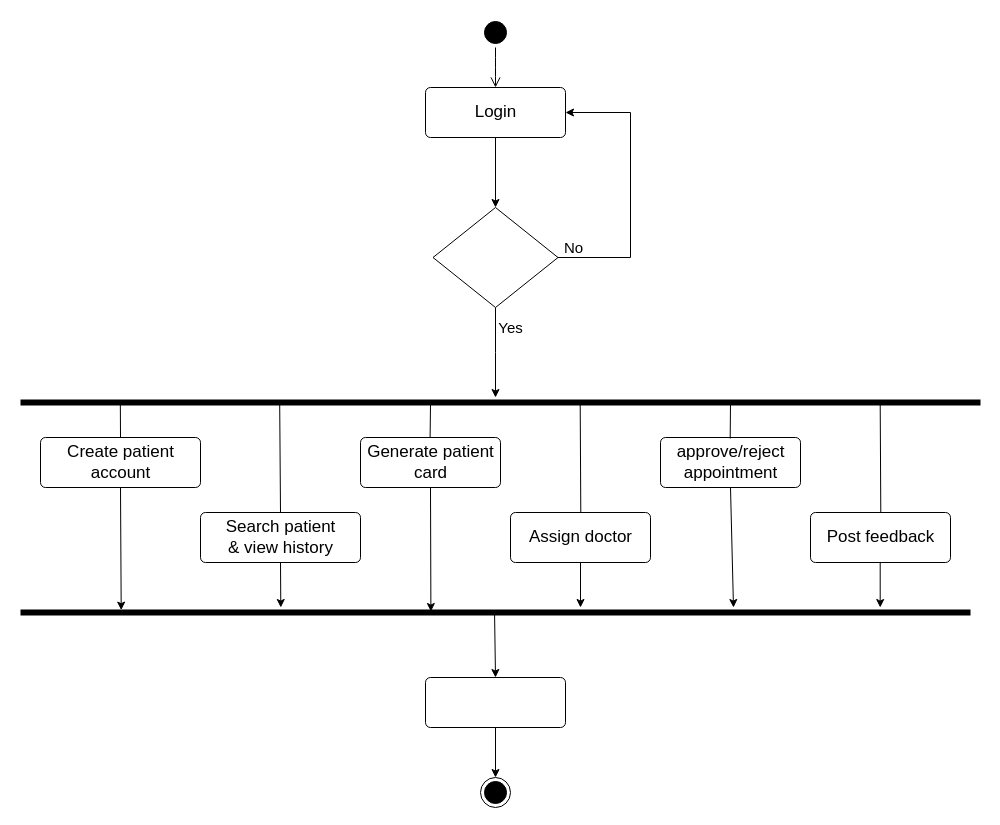
This 1000x825 diagram has some shape labels left out. The box of each missing label's shape, as (x1, y1, x2, y2) in pixels:
Is valid ?: (432, 206, 558, 308)
Logout: (424, 676, 566, 728)
